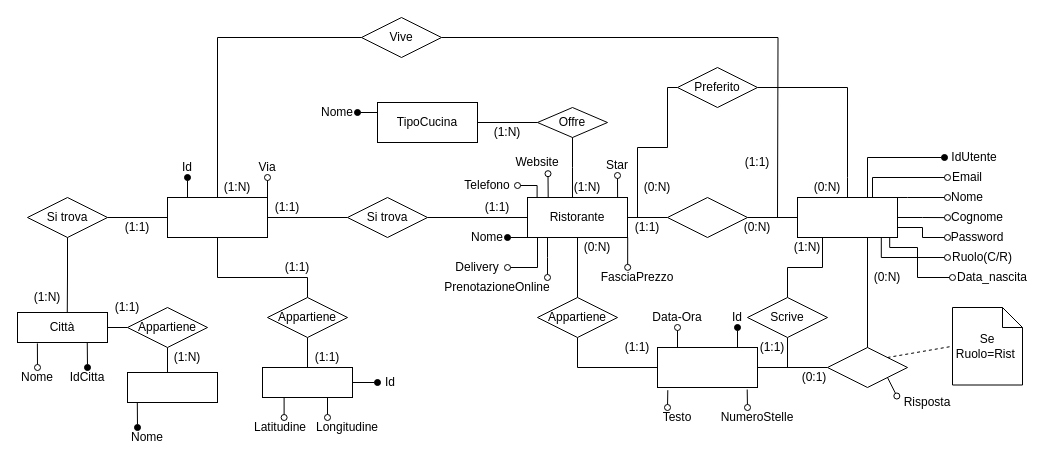
This 1050x465 diagram has some shape labels left out. Here are the shapes that lost their labels. From the top down, the centre of each, then its label:
the point at 217,217: Luogo
the point at 707,217: Possiede
the point at 847,217: Utente
the point at 172,387: Nazione
the point at 307,382: Coordinate
the point at 707,367: Recensione
the point at 867,367: Risponde
